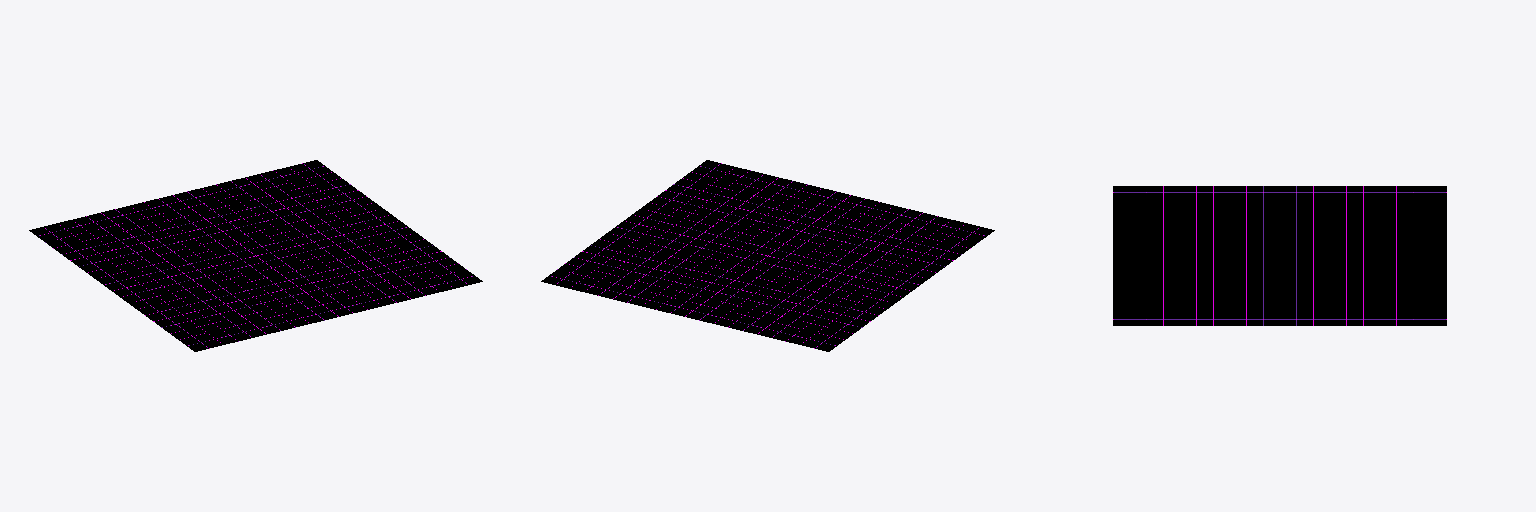
The picture shows the model from 3 angles: view 1: azimuth 30°, elevation 25°; view 2: azimuth 150°, elevation 25°; view 3: azimuth 270°, elevation 25°; orthographic projection.
Visible parts, largest first — view 1: Grid.002; view 2: Grid.002; view 3: Grid.002.
Boxes of the visible parts, x1=… form: Grid.002: x1=29, y1=160, x2=482, y2=351; Grid.002: x1=541, y1=160, x2=994, y2=351; Grid.002: x1=1113, y1=186, x2=1446, y2=325.
Size of the model in its own units: 10 by 0 by 10.
Materials: 1 (1 with a texture image).